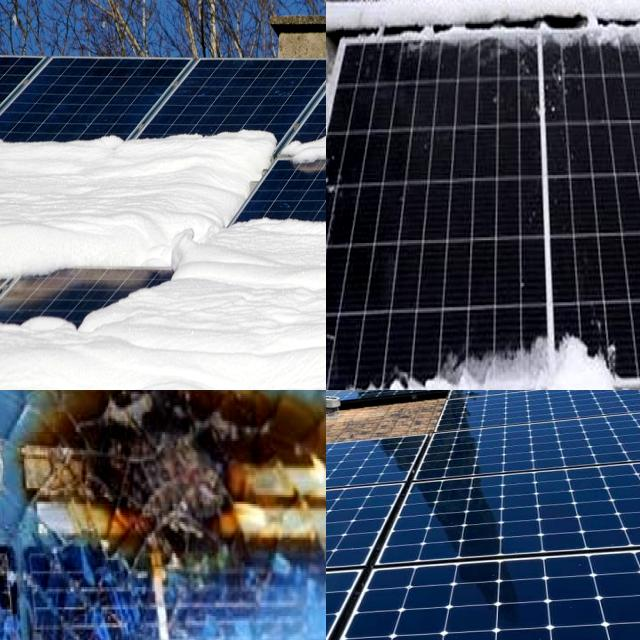crack: (393, 466, 640, 609), (326, 541, 640, 640), (395, 393, 640, 486), (326, 478, 487, 590), (326, 438, 493, 506), (414, 390, 640, 426)
panel: (152, 110, 281, 190), (88, 120, 284, 168), (326, 84, 353, 390), (54, 218, 164, 291), (0, 105, 130, 162), (409, 334, 515, 390), (428, 8, 535, 59), (221, 189, 305, 253), (521, 331, 611, 390), (543, 11, 640, 62), (42, 290, 119, 350), (0, 223, 58, 288), (172, 219, 216, 295), (0, 295, 50, 353), (286, 115, 326, 174), (343, 20, 416, 50), (326, 365, 407, 390), (0, 139, 25, 210)
shadow: (10, 390, 326, 608)
